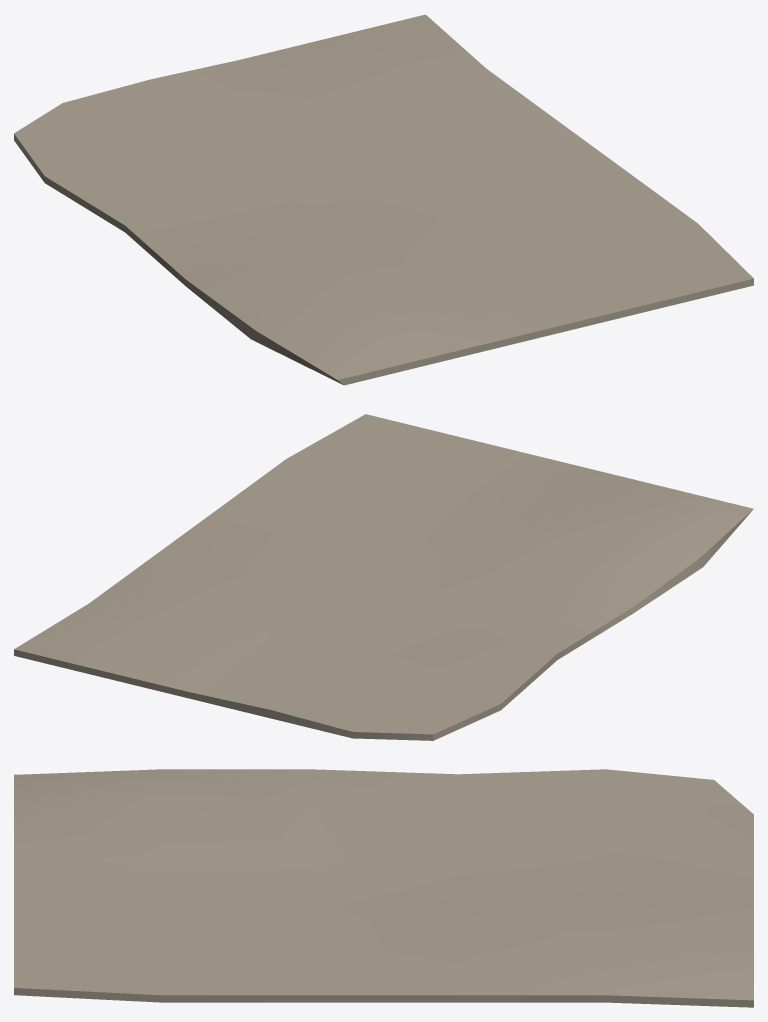
File: Rag.fbx
3 renders of one model, top to bottom at view 1: azimuth 30°, elevation 25°; view 2: azimuth 150°, elevation 25°; view 3: azimuth 270°, elevation 25°, orthographic. The views are drawn at different scales.
Parts seen in each view (by area): view 1: pCube52; view 2: pCube52; view 3: pCube52.
Part boxes in pixels (<box>): pCube52: <box>14,14,753,385</box>; pCube52: <box>14,414,753,740</box>; pCube52: <box>14,769,753,1007</box>.
Bounding box in the file's own units: 2.03 × 0.1036 × 2.71.
